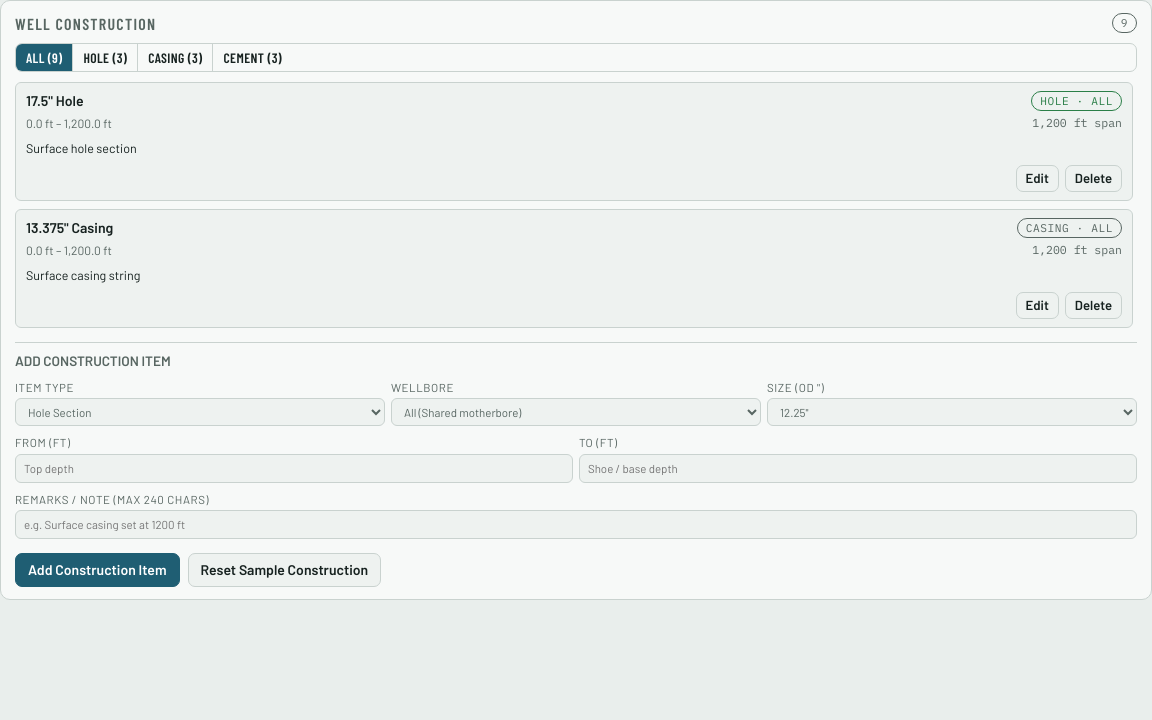
Scenario: <ConstructionEditor> › adding a construction item › adds a valid hole section successfully through the form
This screenshot has width=1152, height=720.
Type "7200" into the number field named "from depth". click: [294, 468]
box: 15,454 -> 573,483
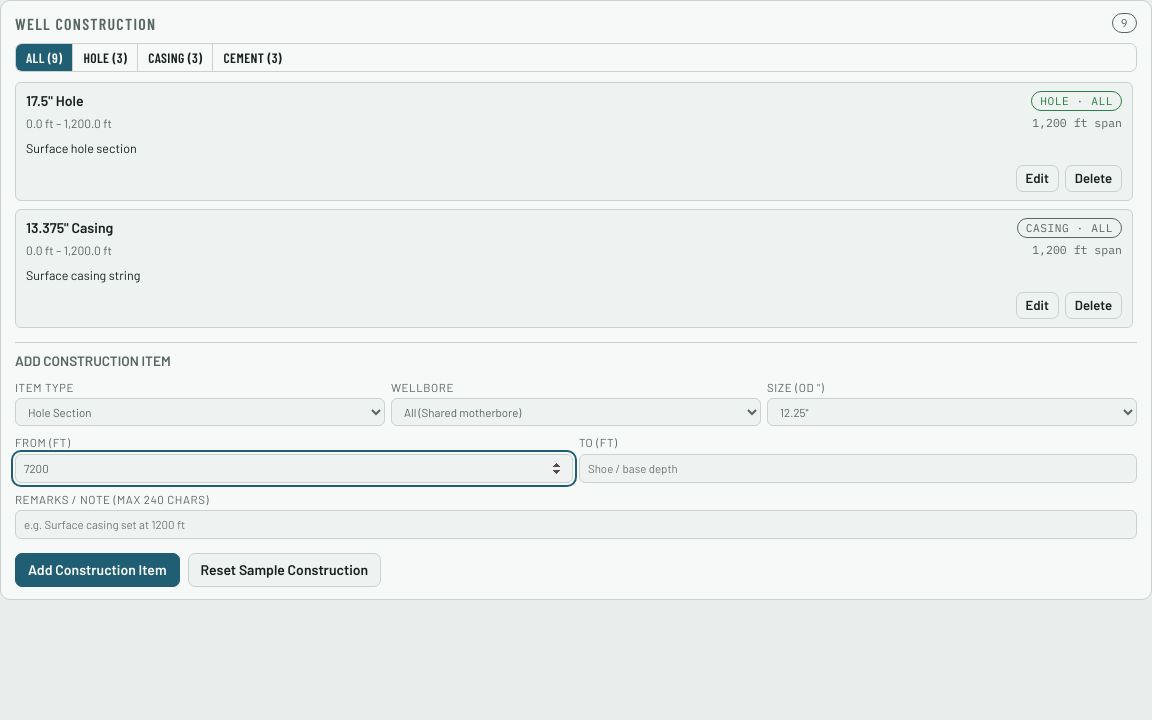
Type "9500" into the number field named "to depth". click: [858, 468]
box: 579,454 -> 1137,483
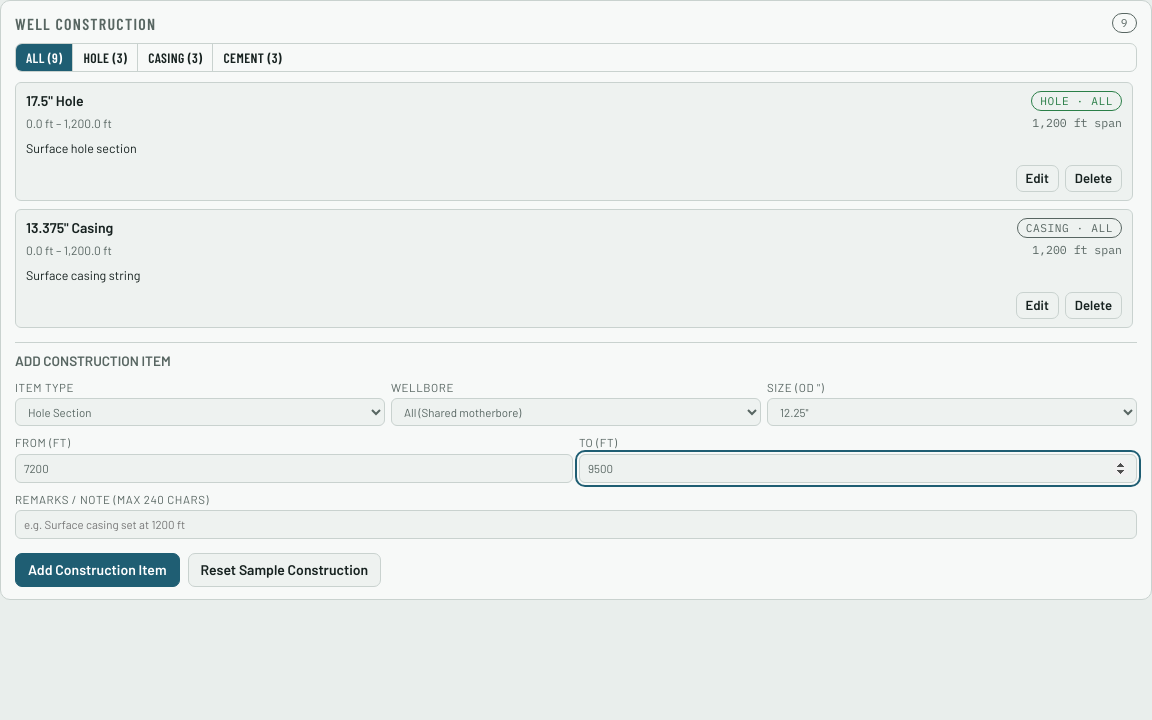
Type "Deep exploratory hole" into the field named "construction remarks". click: [576, 525]
box: 15,510 -> 1137,539
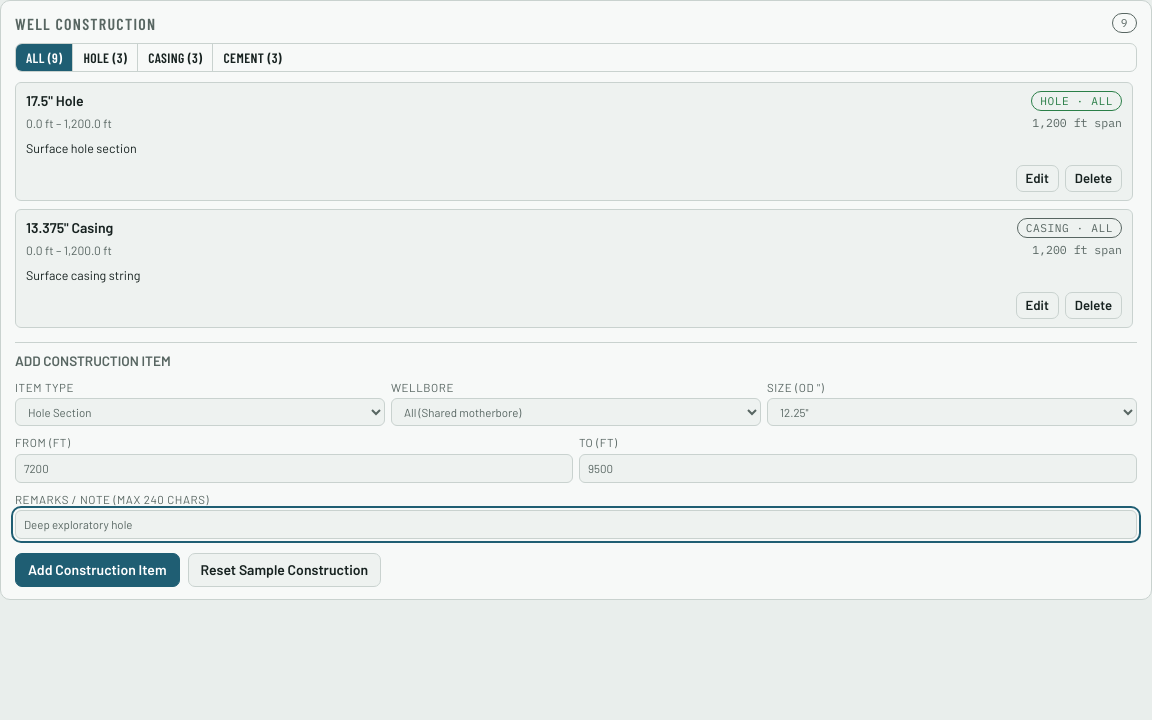
Click the button "Add Construction Item". click: [97, 570]
box: 15,553 -> 180,587
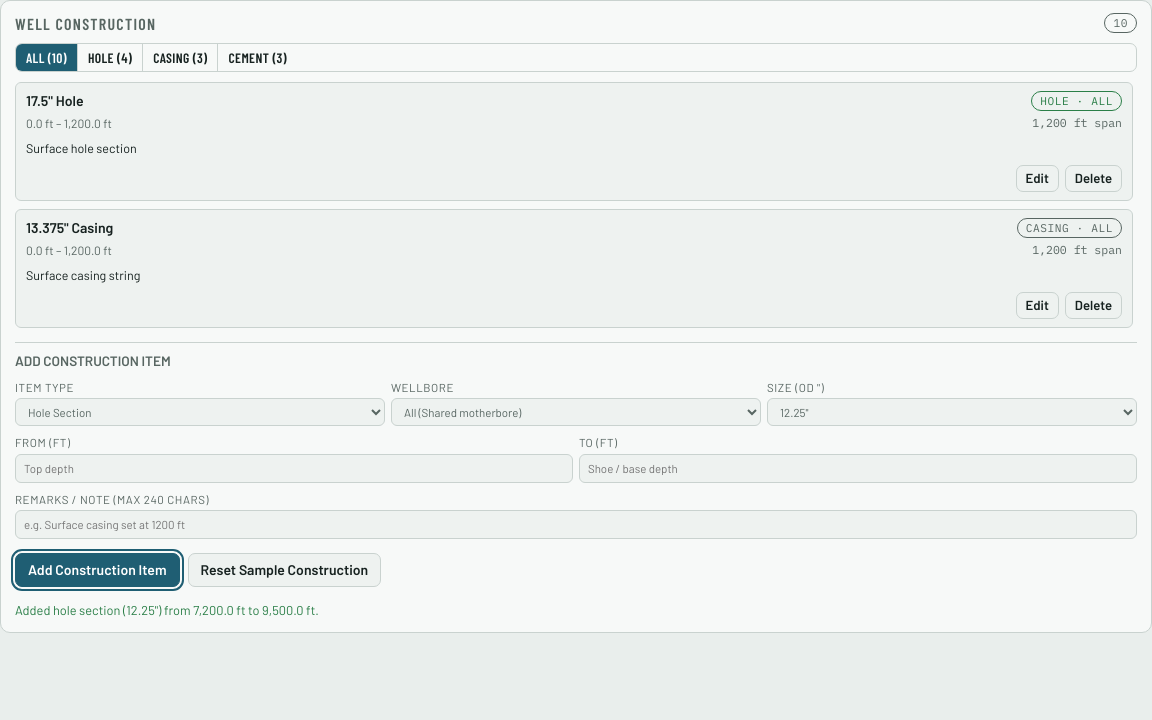
expect the text "Added hole section (12.25\") from 7,200.0 ft to 9,500.0 ft." is shown: met, box 15,602 -> 319,618
